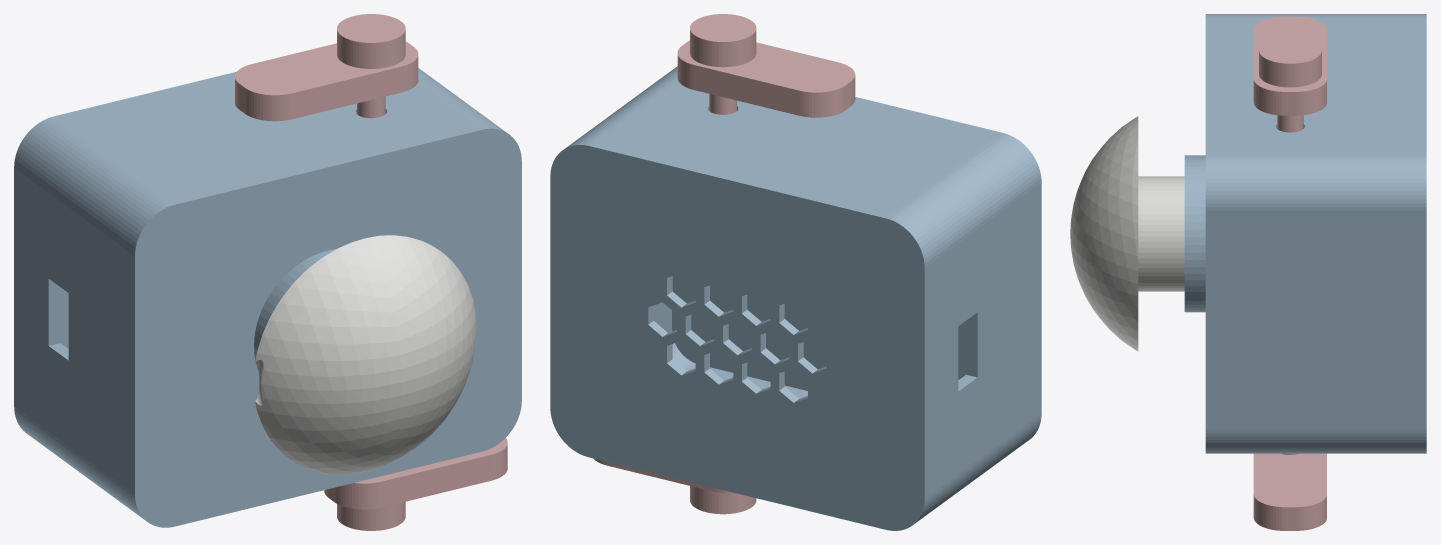
File: combined.glb
3 renders of one model, left to right at view 1: azimuth 30°, elevation 25°; view 2: azimuth 150°, elevation 25°; view 3: azimuth 270°, elevation 25°, orthographic. The views are drawn at different scales.
Visible parts, largest first — view 1: body, head, arm_l, arm_r; view 2: body, arm_l, arm_r; view 3: body, head, arm_l, arm_r.
Part boxes in pixels (box(x1,y1,x2,y2)): body: box(14, 68, 521, 527); head: box(255, 235, 476, 474); arm_l: box(235, 14, 418, 121); arm_r: box(324, 438, 507, 530); body: box(550, 66, 1041, 530); arm_l: box(677, 14, 855, 117); arm_r: box(593, 458, 756, 514); body: box(1184, 14, 1426, 453); head: box(1070, 116, 1184, 351); arm_l: box(1253, 16, 1326, 132); arm_r: box(1253, 453, 1326, 530).
Size of the model in its own units: 83 by 94 by 68.
